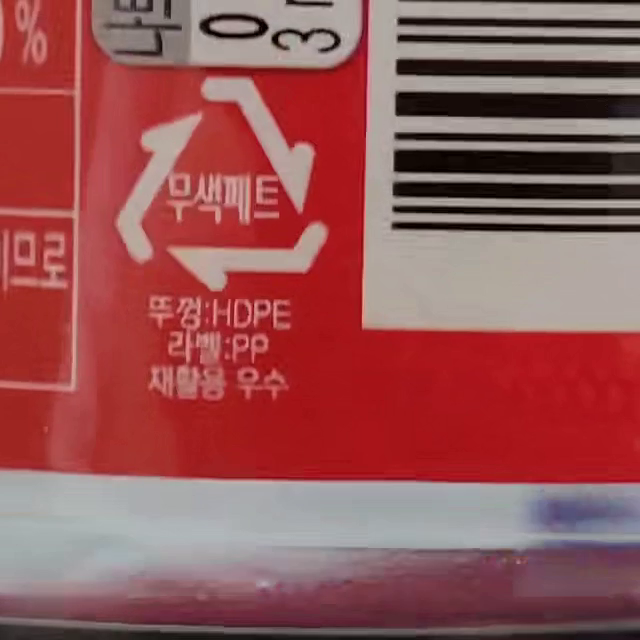ColorlessPet: (113, 78, 329, 292)
